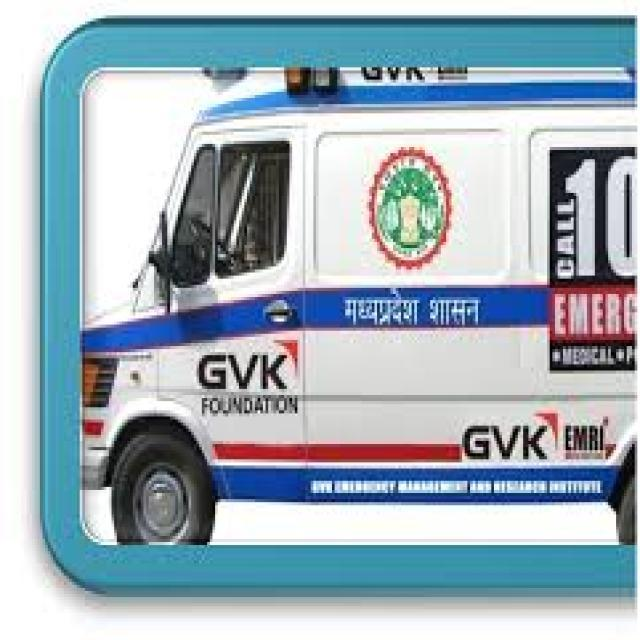ambulance: (85, 78, 567, 518)
